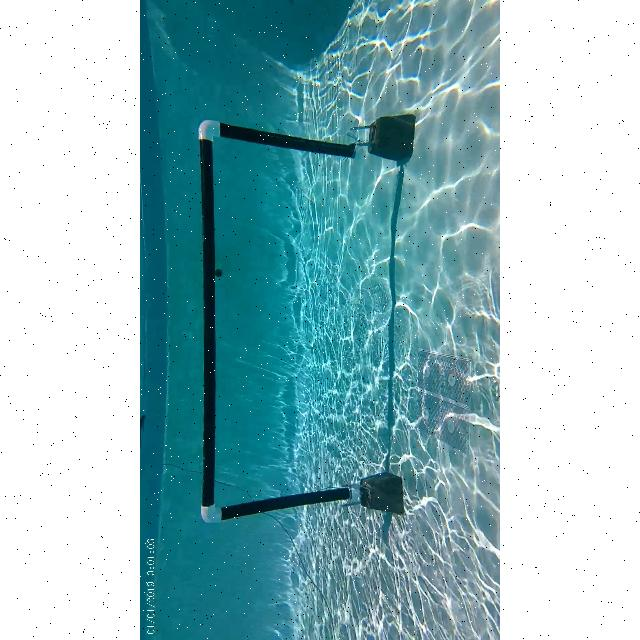prequal gate: (198, 116, 366, 524)
prequal gate leg l: (195, 476, 408, 528)
prequal gate leg r: (194, 104, 418, 170)
